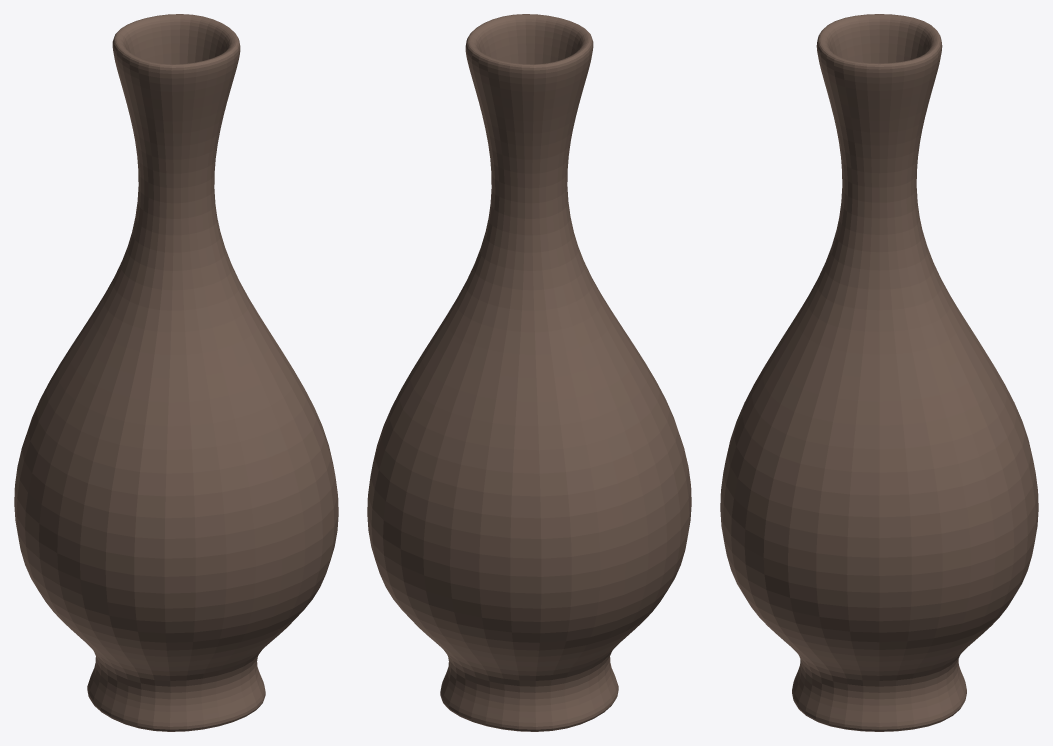
The model's file is Vase2.fbx.
3 renders of one model, left to right at view 1: azimuth 30°, elevation 25°; view 2: azimuth 150°, elevation 25°; view 3: azimuth 270°, elevation 25°, orthographic.
Visible parts, largest first — view 1: pot 5; view 2: pot 5; view 3: pot 5.
Boxes of the visible parts, x1,y1,x2,y2 form: pot 5: (14,14,338,731); pot 5: (367,14,691,731); pot 5: (720,14,1038,731).
Bounding box in the file's own units: 8.74 × 19.97 × 8.74.
